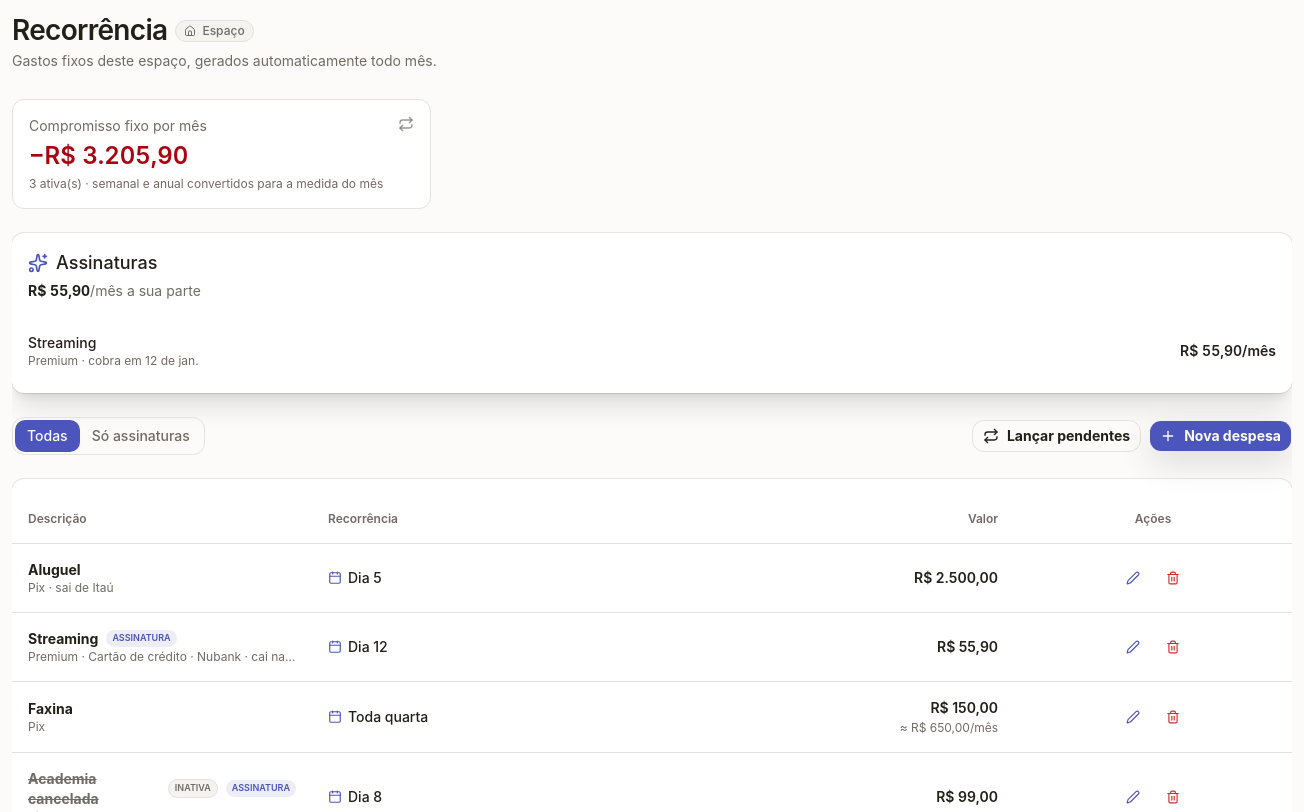
Recorrência › assinaturas: quadro com a sua parte por mês, selo e o recorte "Só assinaturas"
Expected: the element with test id "quadro-assinaturas" shows "55,90", [28,282,90,299]
Expected: the element with test id "quadro-assinaturas" shows "Premium", [28,353,199,368]
What coordinates should you click on to do the following:
click the button "Só assinaturas"
I would click on:
 (141, 436)
Its box is [80,420,202,452].
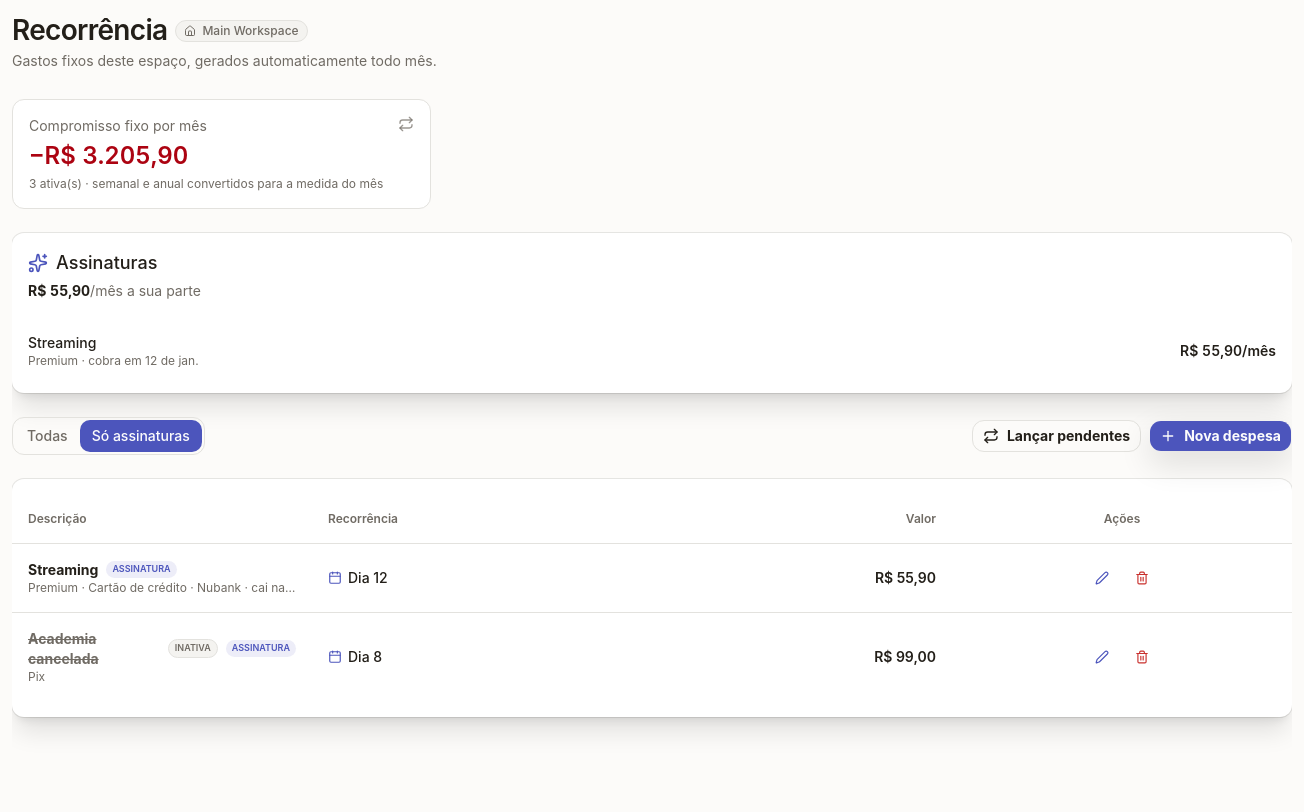
Expected: the text "Streaming" in the row of "Dia 12" is shown, [28,561,98,578]
Expected: the text "Aluguel" is gone
